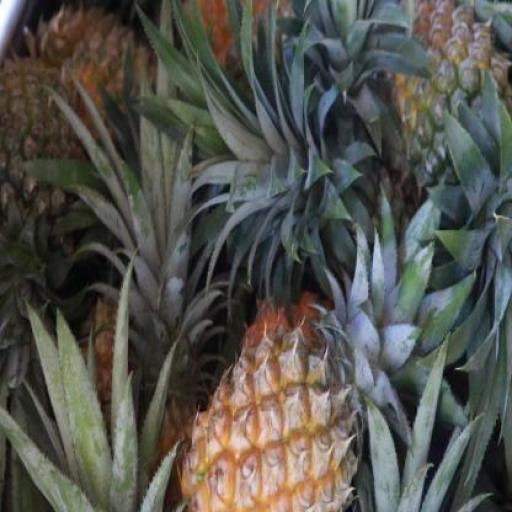------------------------------: (387, 0, 512, 179)
Pineapple - v8 v1: (179, 310, 358, 512)
